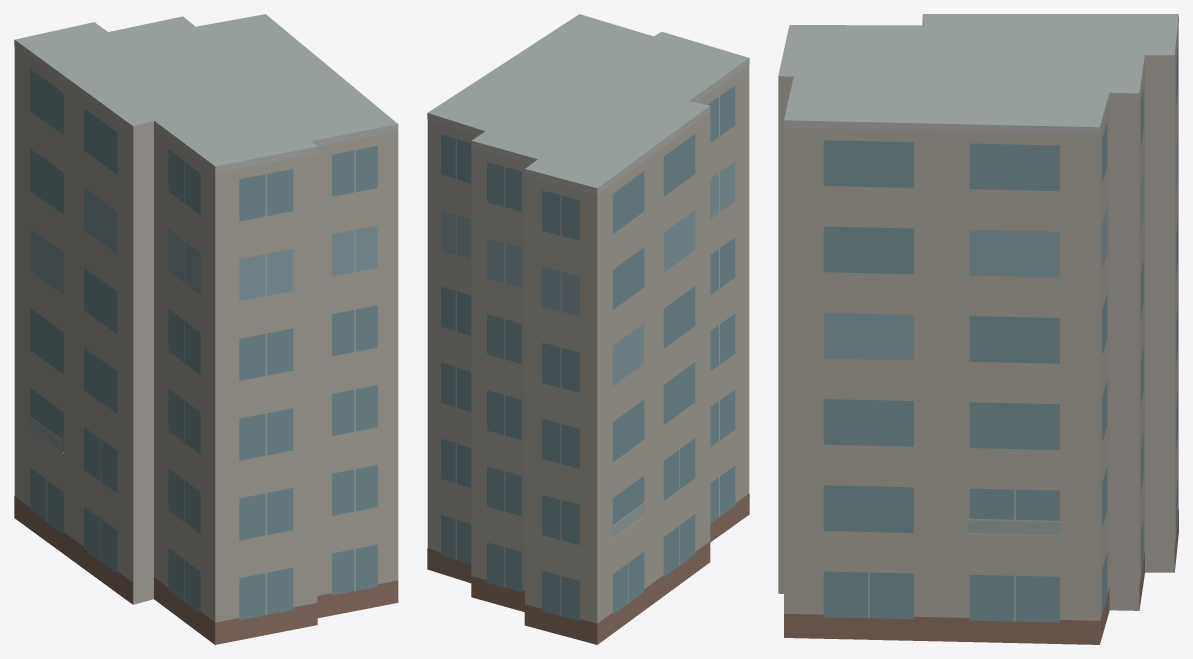
The model's file is survey-upis-32658573.glb.
The picture shows the model from 3 angles, left to right: view 1: azimuth 30°, elevation 25°; view 2: azimuth 150°, elevation 25°; view 3: azimuth 270°, elevation 25°; orthographic projection. The views are drawn at different scales.
Parts seen in each view (by area): view 1: survey-upis-32658573.tmp; view 2: survey-upis-32658573.tmp; view 3: survey-upis-32658573.tmp.
Boxes of the visible parts, x1,y1,x2,y2 form: survey-upis-32658573.tmp: [14, 14, 398, 644]; survey-upis-32658573.tmp: [427, 14, 749, 644]; survey-upis-32658573.tmp: [778, 14, 1178, 644].
Bounding box in the file's own units: 7.93 × 16.8 × 11.8.
